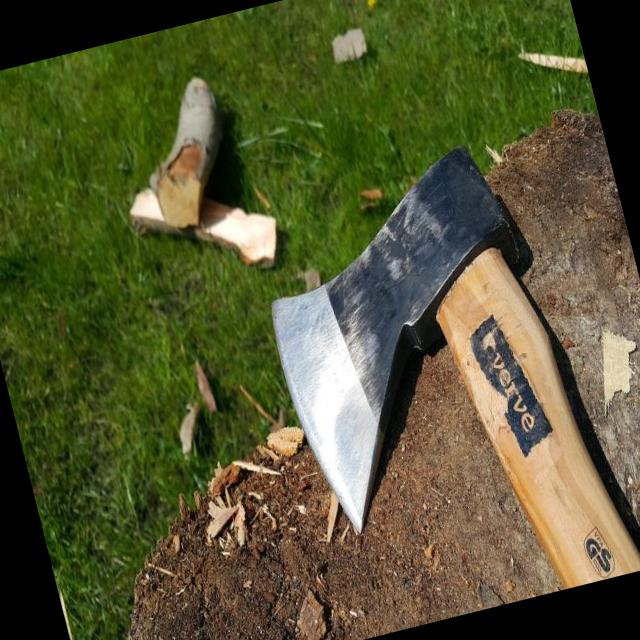Axe: (272, 148, 640, 588)
